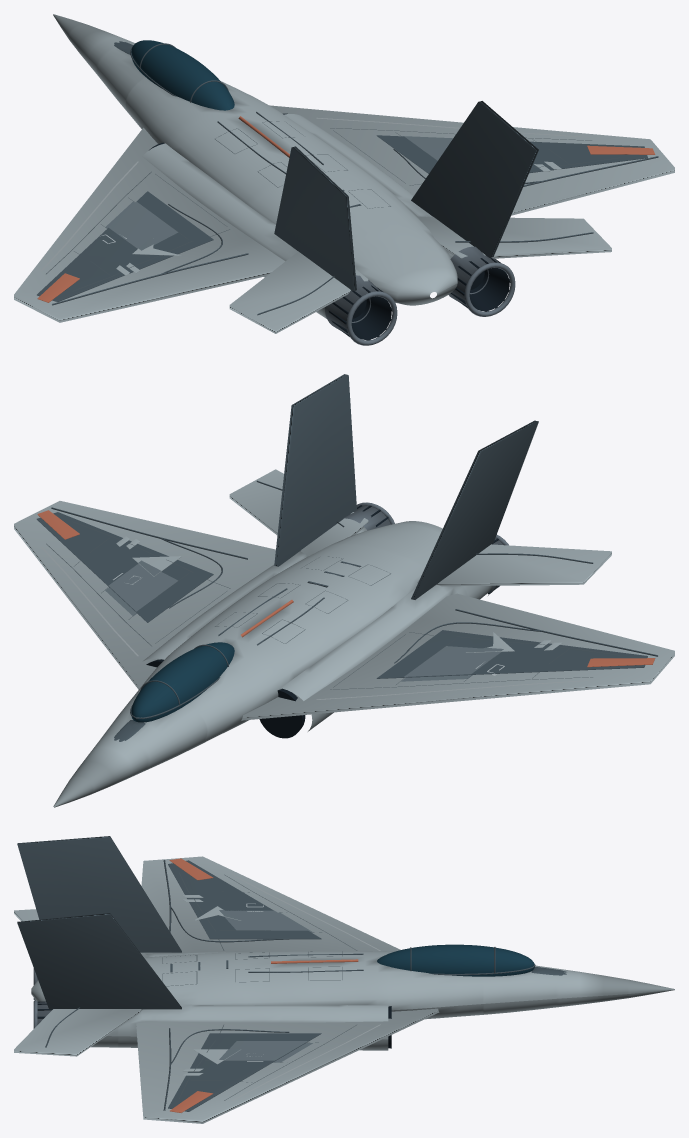
File: player-vector-hero-v4.glb
3 views of the same model, one above another, from view 1: azimuth 30°, elevation 25°; view 2: azimuth 150°, elevation 25°; view 3: azimuth 270°, elevation 25° (orthographic). The views are drawn at different scales.
Parts seen in each view (by area): view 1: hull, trim, service-markings, canopy, metal, dark, accent; view 2: hull, trim, service-markings, canopy, accent, dark, metal; view 3: hull, trim, service-markings, canopy, accent.
Boxes of the visible parts, box(x1,y1,x2,y2) form: hull: box(14, 14, 674, 333); trim: box(37, 41, 658, 315); service-markings: box(41, 117, 619, 291); canopy: box(131, 40, 234, 110); metal: box(325, 246, 515, 345); dark: box(149, 113, 510, 340); accent: box(37, 116, 655, 302); hull: box(14, 469, 674, 807); trim: box(36, 374, 657, 741); service-markings: box(41, 521, 619, 699); canopy: box(131, 642, 234, 722); accent: box(37, 510, 655, 667); dark: box(146, 505, 499, 738); metal: box(343, 502, 508, 595); hull: box(14, 856, 674, 1123); trim: box(17, 836, 566, 1111); service-markings: box(162, 872, 380, 1100); canopy: box(377, 944, 534, 976); accent: box(169, 858, 358, 1112).
Bounding box in the file's own units: 17.8 × 4.66 × 18.9.
